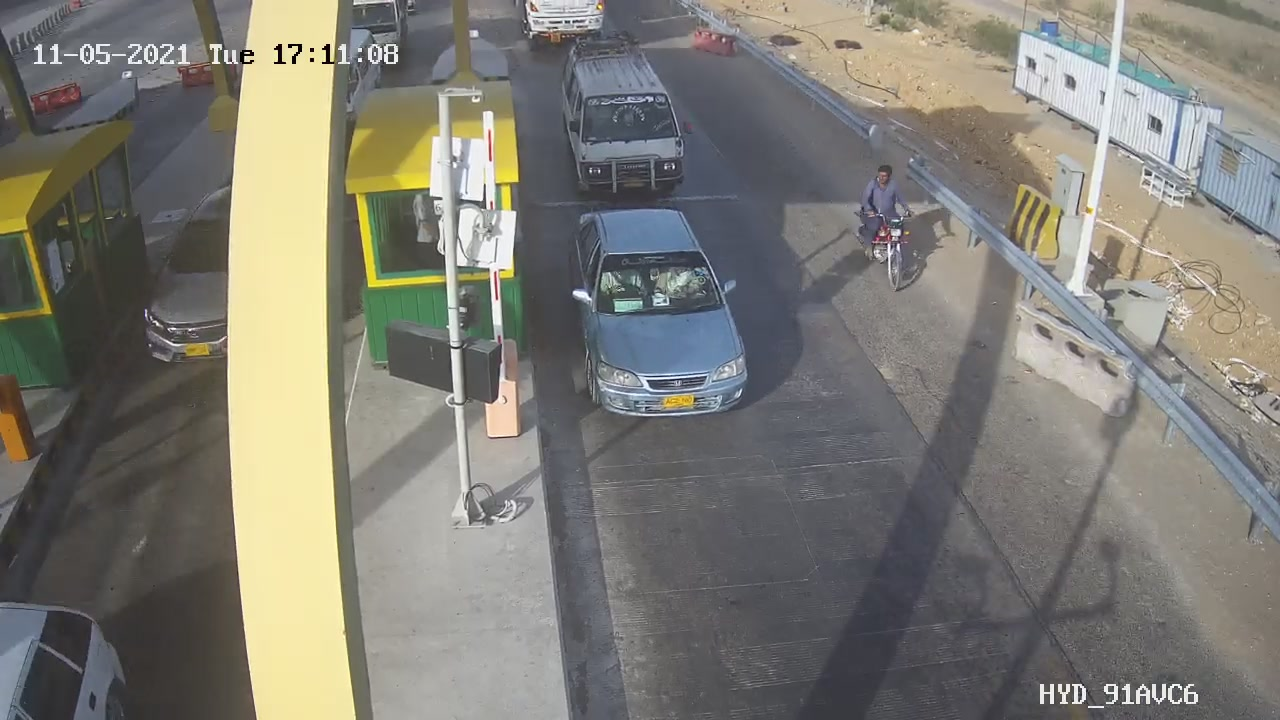F1: (551, 194, 772, 435)
F2: (538, 33, 696, 199)
